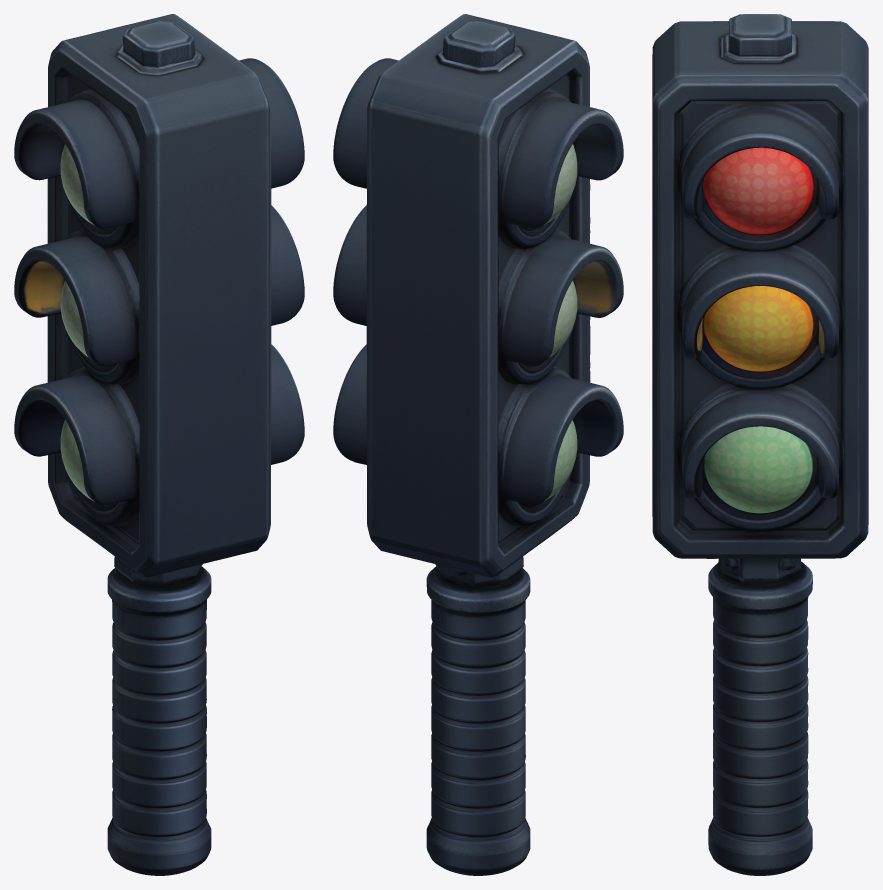
Rendered from trafficlight.glb.
The picture shows the model from 3 angles, left to right: view 1: azimuth 30°, elevation 25°; view 2: azimuth 150°, elevation 25°; view 3: azimuth 270°, elevation 25°; orthographic projection.
Visible parts, largest first — view 1: tripo_node_9280d679-3e41-46cc-b3e8-b74986ef4d8e; view 2: tripo_node_9280d679-3e41-46cc-b3e8-b74986ef4d8e; view 3: tripo_node_9280d679-3e41-46cc-b3e8-b74986ef4d8e.
Boxes of the visible parts, bbox=[...] form: tripo_node_9280d679-3e41-46cc-b3e8-b74986ef4d8e: bbox=[14, 14, 304, 875]; tripo_node_9280d679-3e41-46cc-b3e8-b74986ef4d8e: bbox=[333, 14, 623, 875]; tripo_node_9280d679-3e41-46cc-b3e8-b74986ef4d8e: bbox=[652, 14, 868, 875].
Size of the model in its own units: 0.2678 by 0.9768 by 0.2293.
1 material, 1 textured.
